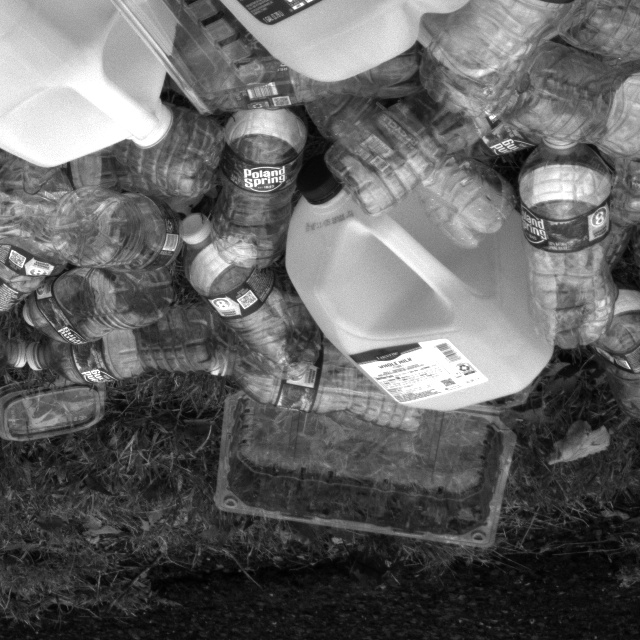bottle: (318, 54, 533, 212), (512, 117, 626, 363), (427, 0, 633, 124), (179, 208, 312, 377), (204, 84, 307, 300), (485, 43, 640, 171), (0, 189, 182, 273), (8, 263, 172, 343), (58, 325, 215, 384), (579, 281, 640, 429), (565, 0, 640, 108), (415, 159, 501, 247)
can: (282, 143, 561, 414), (136, 0, 514, 82), (0, 0, 166, 175)
container: (214, 380, 523, 557), (0, 378, 112, 443)
